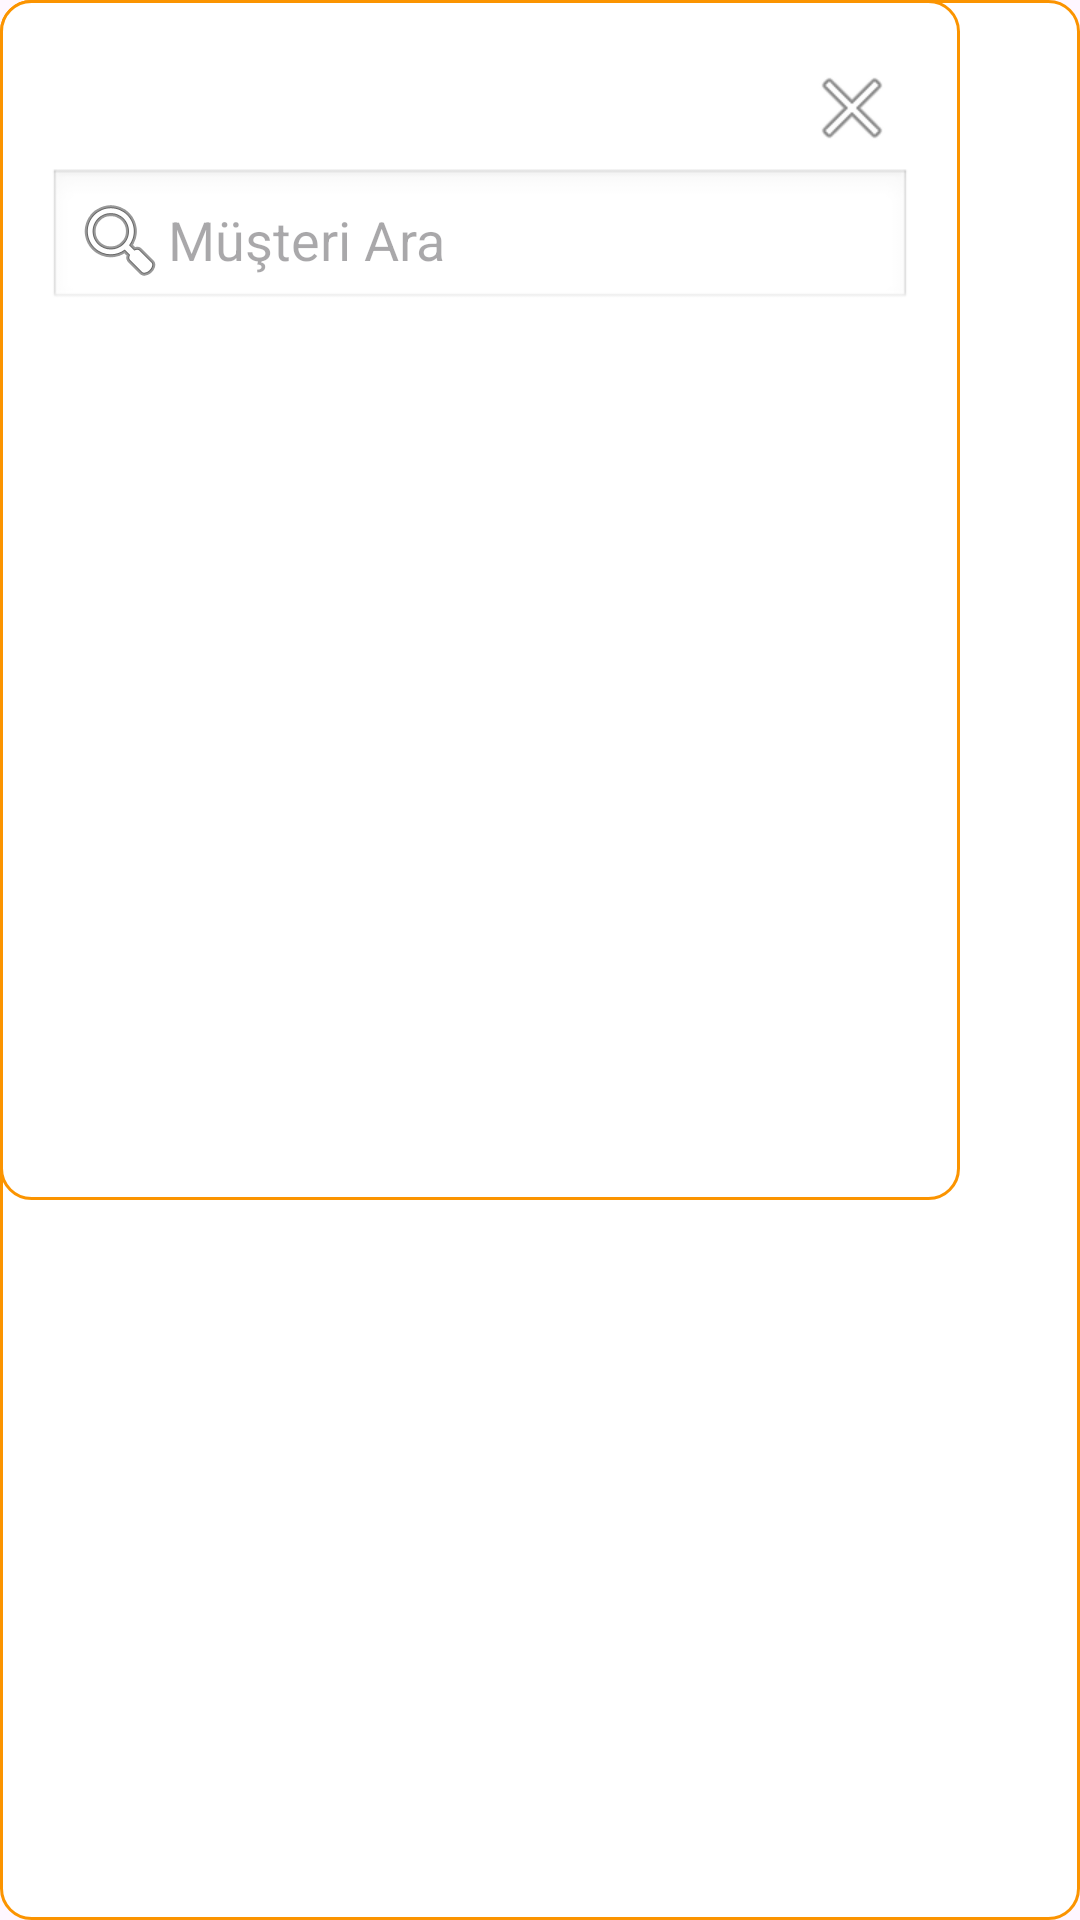

Icon bounding boxes for this 1080px×1920px phone screenshot, format (x1, y1, x2, y2):
Close: (822, 78, 882, 138)
